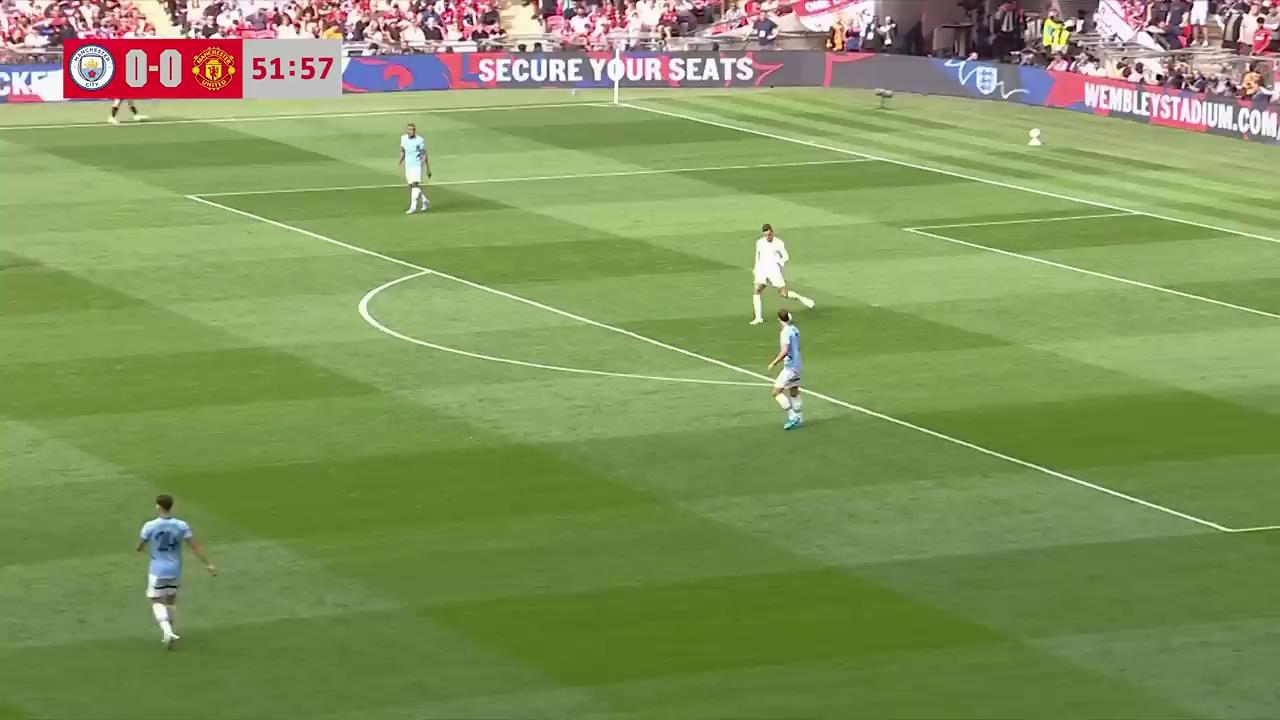ball: (797, 294, 817, 311)
player: (135, 494, 215, 649), (761, 309, 804, 429), (750, 223, 788, 322), (398, 124, 430, 214)
